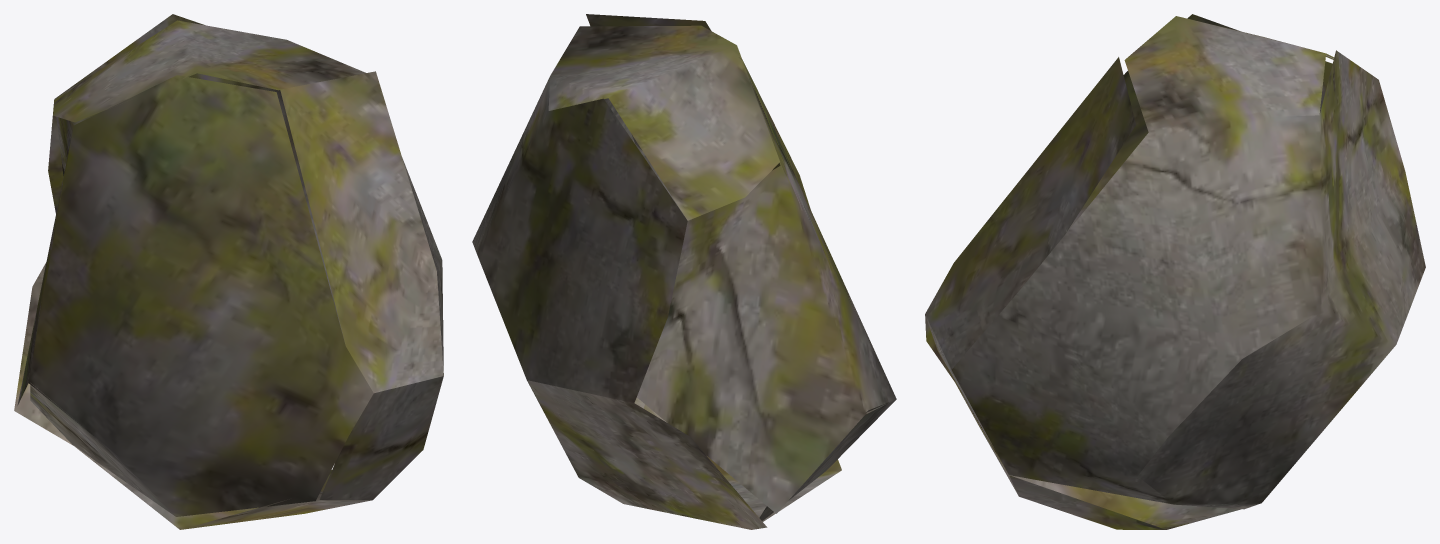
Rendered from rock_009.glb.
3 views of the same model, side by side, from view 1: azimuth 30°, elevation 25°; view 2: azimuth 150°, elevation 25°; view 3: azimuth 270°, elevation 25° (orthographic). The views are drawn at different scales.
Parts seen in each view (by area): view 1: rock.009; view 2: rock.009; view 3: rock.009.
Boxes of the visible parts, x1,y1,x2,y2 form: rock.009: (14,14,443,529); rock.009: (472,14,896,529); rock.009: (925,14,1425,529).
Bounding box in the file's own units: 0.5628 × 0.6421 × 0.6177.
1 material, 1 textured.
